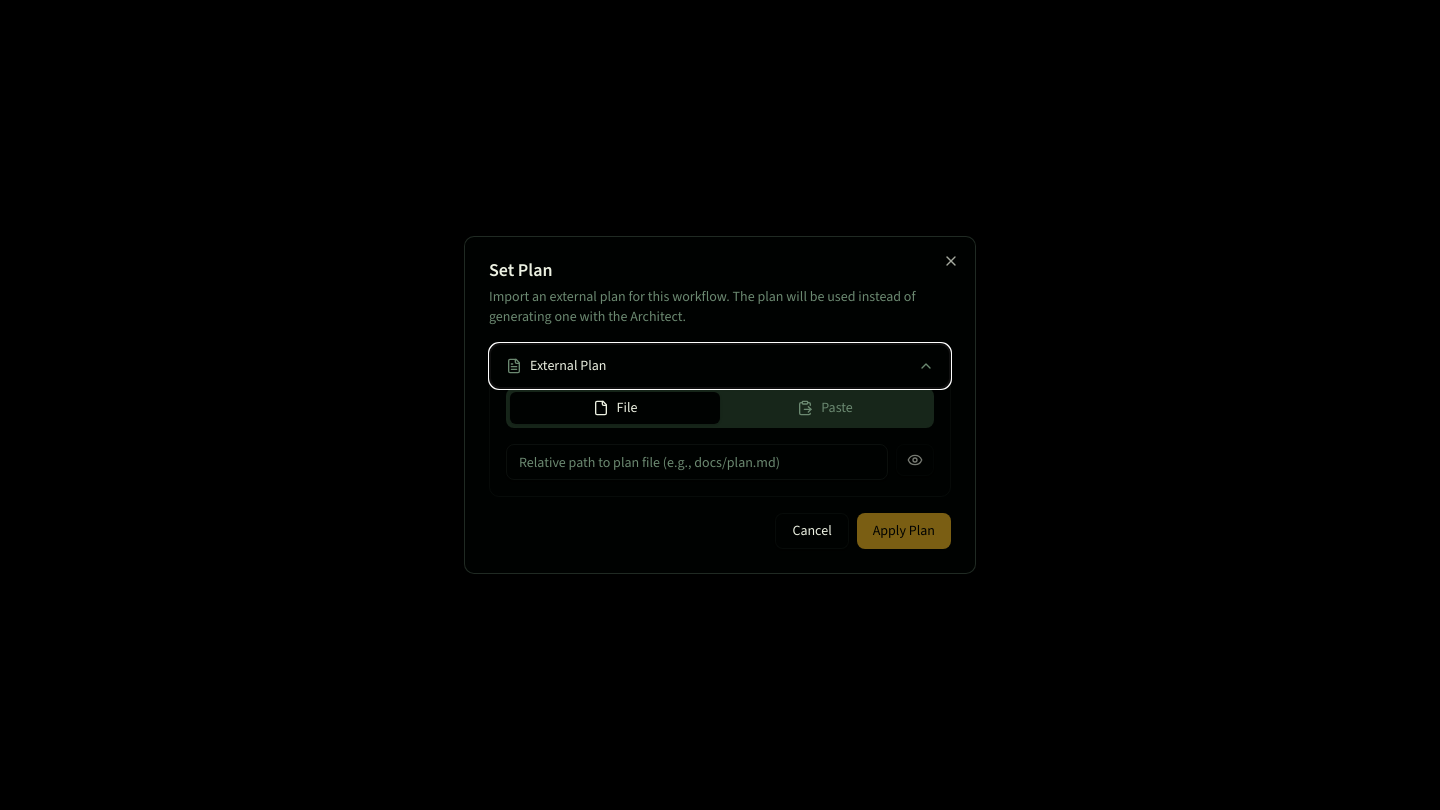
SetPlanModal › submission › Apply button is enabled when plan file path is entered
The width and height of the screenshot is (1440, 810).
In the field with placeholder "Relative path to plan file (e.g., docs/plan.md)": (697, 462) left=506, top=444, right=888, bottom=480, type "docs/plan.md"
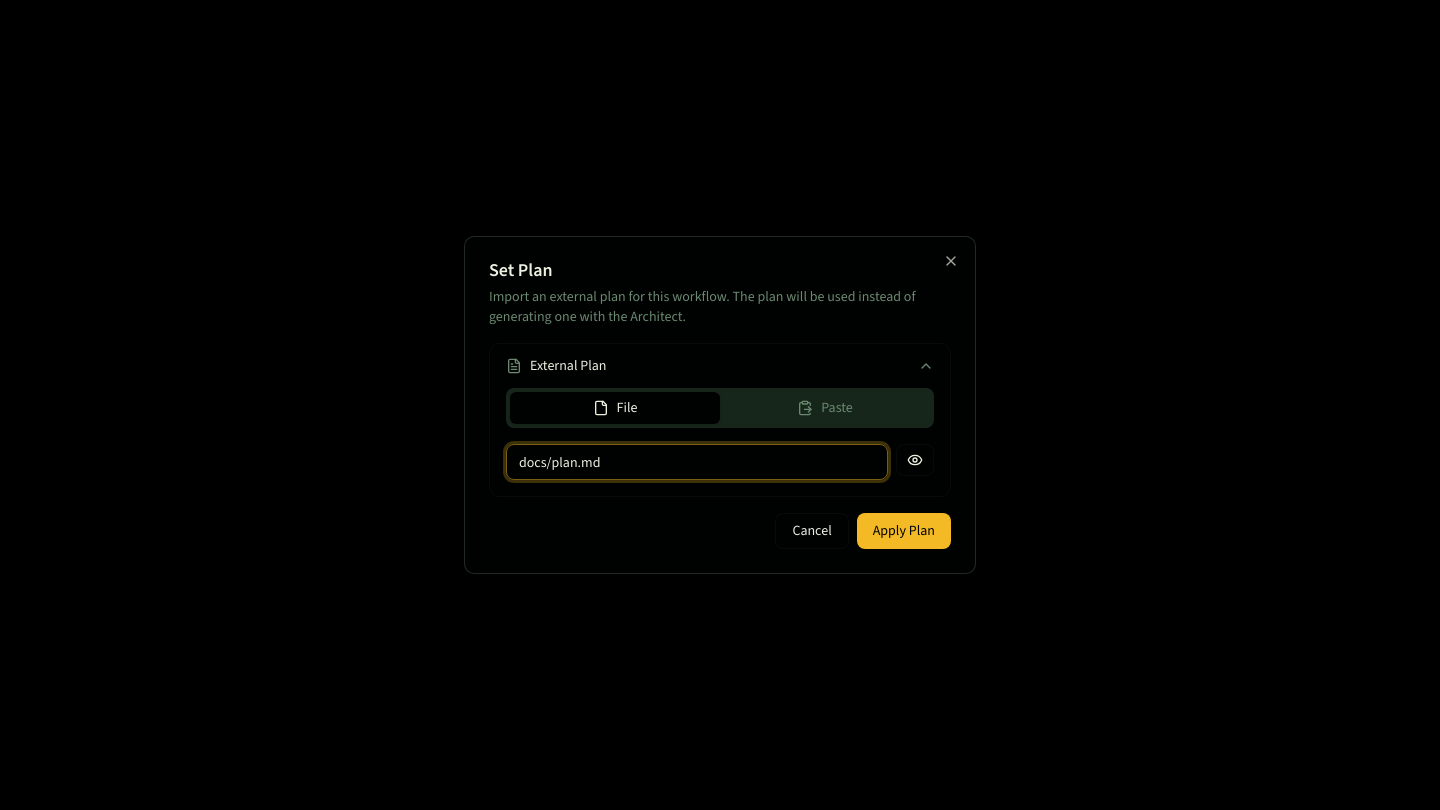
Check: the button "Apply Plan" is enabled, box left=857, top=513, right=951, bottom=549
